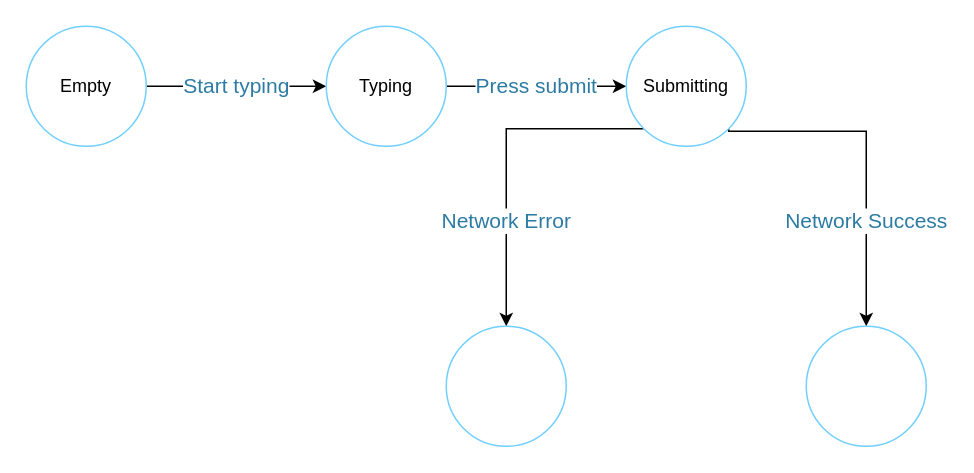
Some shapes in this 974 by 473 pixel diagram are drawn without their labels. Each missing label, with the centre of its shape:
"Error" goes at (x=505, y=385).
"Success" goes at (x=865, y=385).
